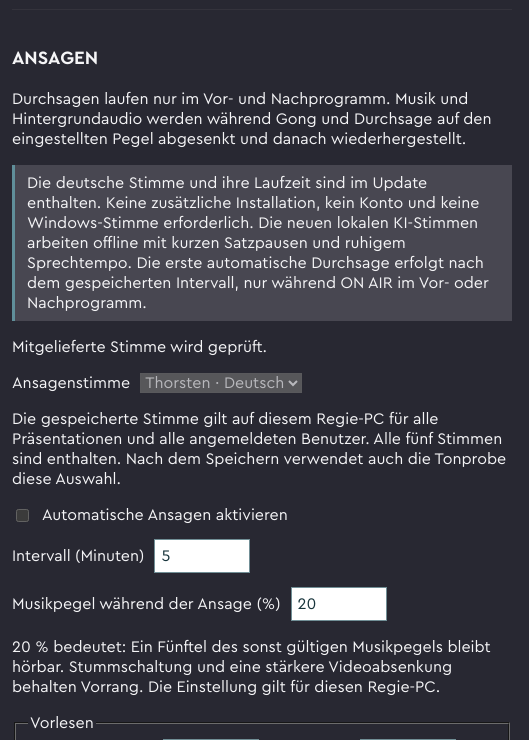
Test case: inactive announcement preparation settings › rejects an invalid interval without writing
Replace the text in the number field labelled "Intervall (Minuten)" with "0" at (202, 556), box [154,539,250,573]
(page scrolled)
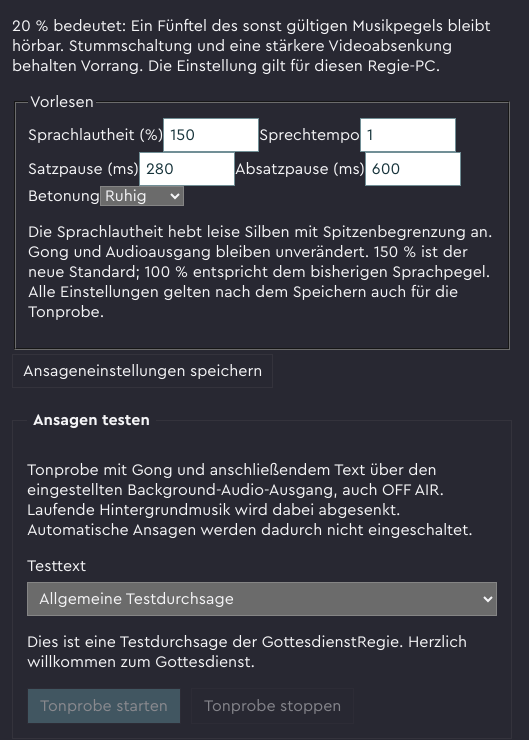
Click the button "Ansageneinstellungen speichern".
click(143, 371)  # box [12,354,273,388]
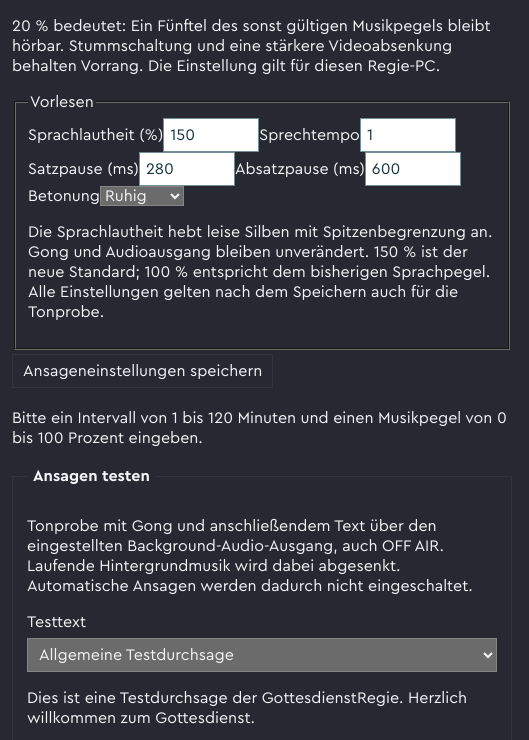
Result: the message is shown at [12,408,512,448]
